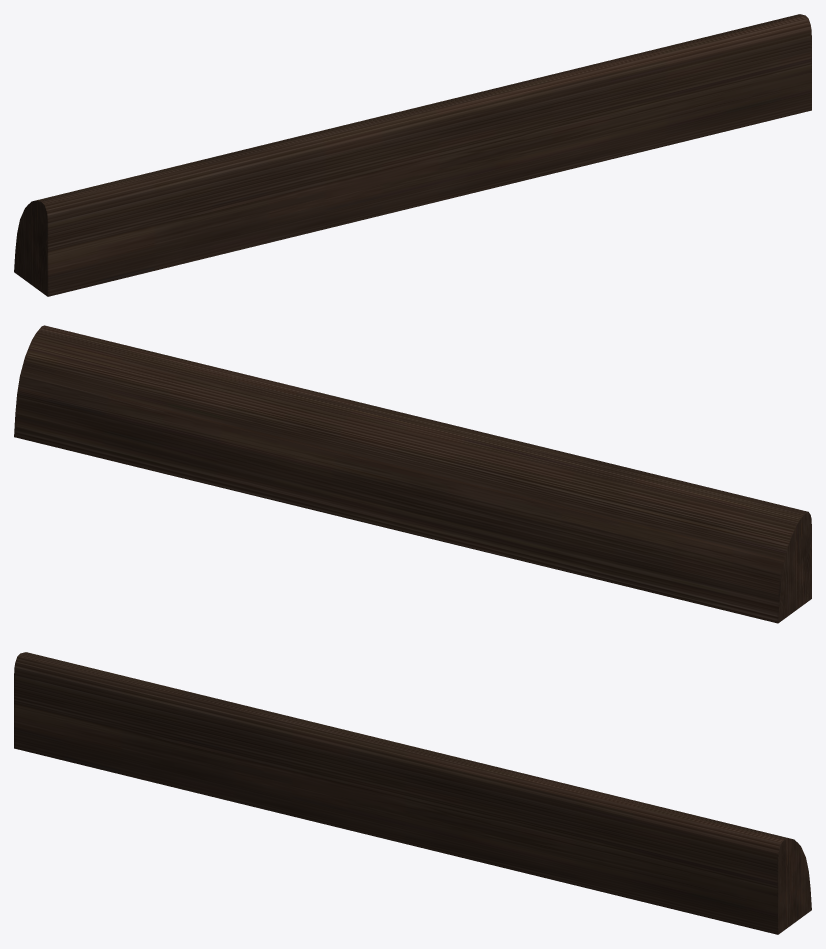
File: Limiter.fbx
3 renders of one model, top to bottom at view 1: azimuth 30°, elevation 25°; view 2: azimuth 150°, elevation 25°; view 3: azimuth 330°, elevation 25°, orthographic.
Visible parts, largest first — view 1: Export limiter; view 2: Export limiter; view 3: Export limiter.
Part boxes in pixels (box(x1,y1,x2,y2)): Export limiter: box(14, 14, 811, 296); Export limiter: box(14, 325, 811, 623); Export limiter: box(14, 652, 811, 934).
Bounding box in the file's own units: 13.23 × 1.5 × 1.01.
